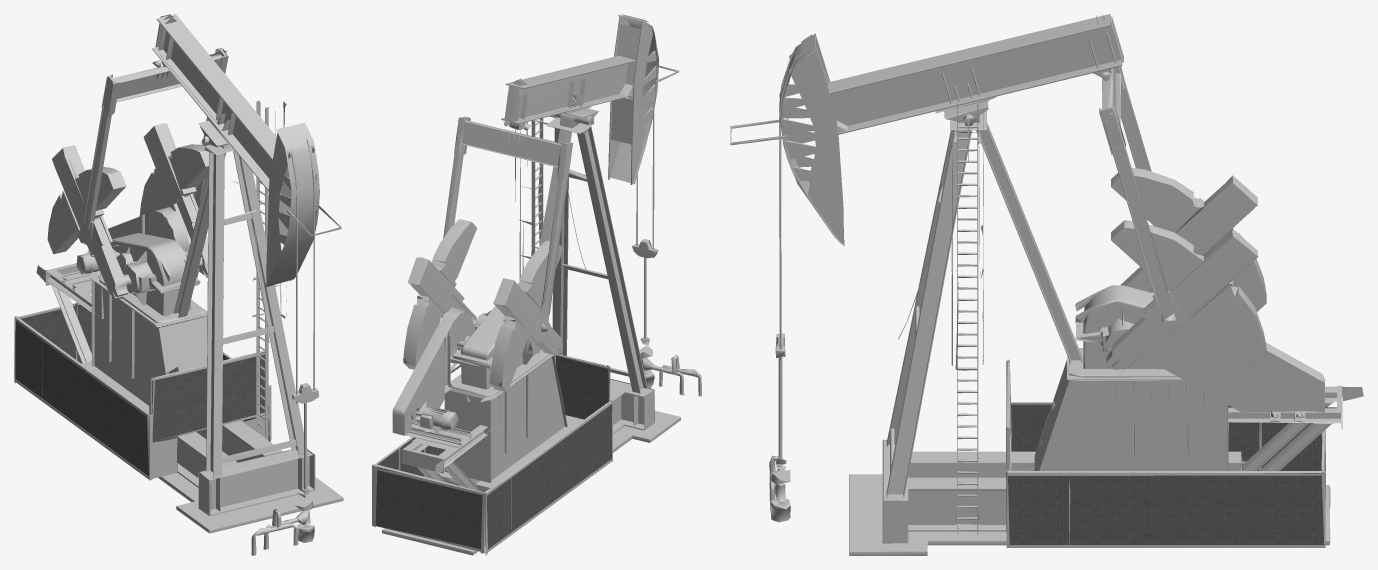
Rendered from SM_OilDrill_01.fbx.
3 renders of one model, left to right at view 1: azimuth 30°, elevation 25°; view 2: azimuth 150°, elevation 25°; view 3: azimuth 270°, elevation 25°, orthographic. The views are drawn at different scales.
Parts seen in each view (by area): view 1: SM_OilDrill_01_LOD0; view 2: SM_OilDrill_01_LOD0; view 3: SM_OilDrill_01_LOD0.
Part boxes in pixels (x1,y1,x2,y2): SM_OilDrill_01_LOD0: [14, 14, 343, 555]; SM_OilDrill_01_LOD0: [372, 14, 701, 555]; SM_OilDrill_01_LOD0: [730, 14, 1363, 555].
Size of the model in its own units: 502 by 1733 by 1521.
